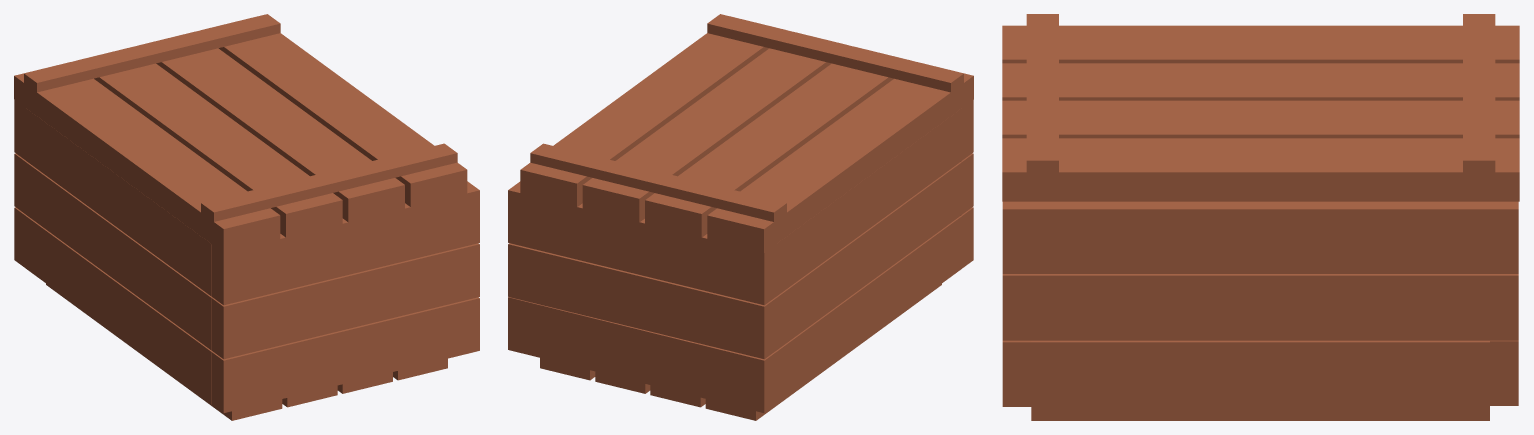
File: CaixaArmazemEstufa.fbx
3 views of the same model, side by side, from view 1: azimuth 30°, elevation 25°; view 2: azimuth 150°, elevation 25°; view 3: azimuth 270°, elevation 25° (orthographic). The views are drawn at different scales.
Parts seen in each view (by area): view 1: Cube.026, Cube.035; view 2: Cube.026, Cube.035; view 3: Cube.026, Cube.035.
Boxes of the visible parts, x1=… form: Cube.026: x1=14, y1=100, x2=479, y2=420; Cube.035: x1=14, y1=14, x2=467, y2=252; Cube.026: x1=508, y1=100, x2=973, y2=420; Cube.035: x1=520, y1=14, x2=973, y2=252; Cube.026: x1=1002, y1=201, x2=1518, y2=420; Cube.035: x1=1002, y1=14, x2=1519, y2=201.
Bounding box in the file's own units: 1.28 × 1.02 × 1.81.
